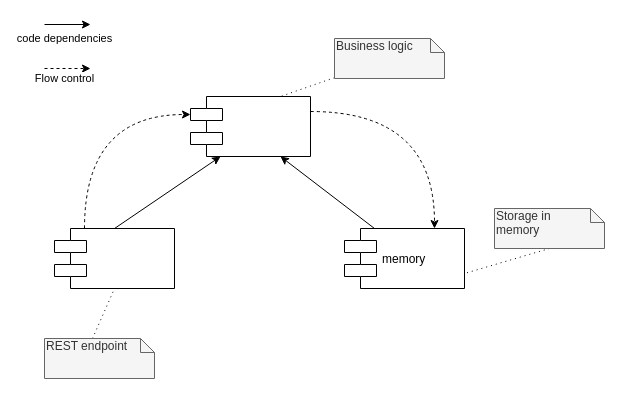
Image size: 622x396. Some labels were removed from this diagram. Here are the shapes that lost their labels. From the top down, the centre of each, then its label:
(x=250, y=126): use-cases
(x=114, y=258): delivery
